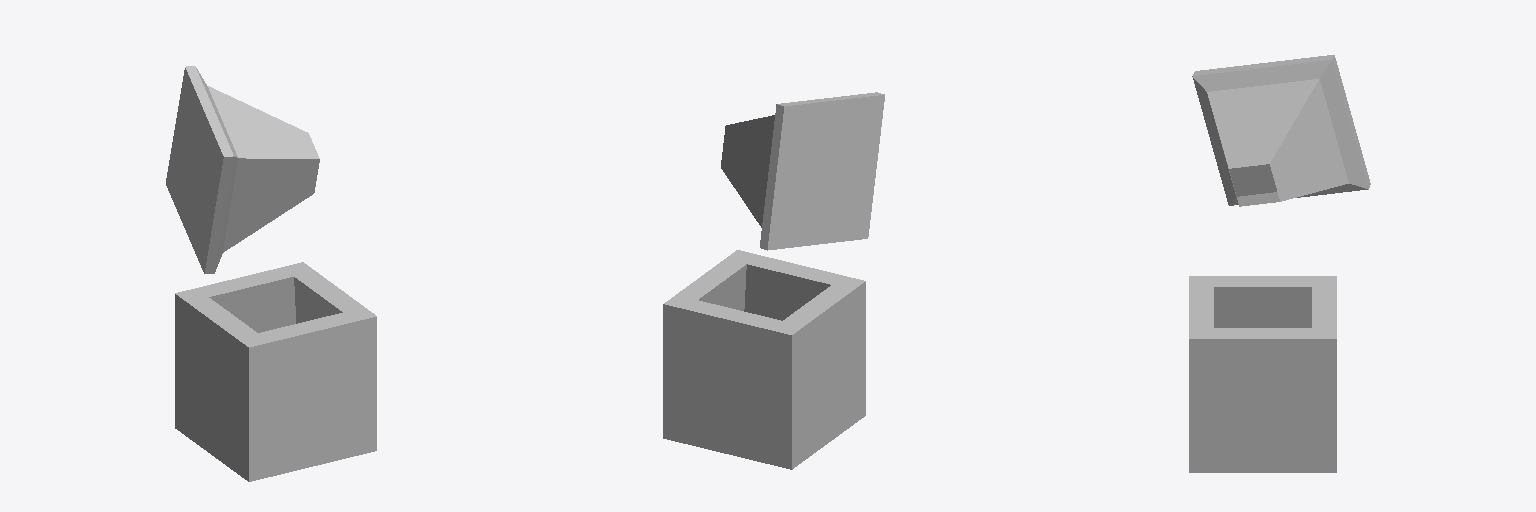
File: AnimatedBox_000104.obj
3 views of the same model, side by side, from view 1: azimuth 30°, elevation 25°; view 2: azimuth 150°, elevation 25°; view 3: azimuth 270°, elevation 25° (orthographic).
Parts seen in each view (by area): view 1: Cube, Cube.001; view 2: Cube, Cube.001; view 3: Cube, Cube.001.
Boxes of the visible parts, x1=… form: Cube: x1=175, y1=262, x2=376, y2=481; Cube.001: x1=166, y1=66, x2=319, y2=273; Cube: x1=663, y1=250, x2=865, y2=469; Cube.001: x1=721, y1=92, x2=884, y2=250; Cube: x1=1189, y1=276, x2=1336, y2=472; Cube.001: x1=1192, y1=55, x2=1370, y2=206.
Bounding box in the file's own units: 2.36 × 5.35 × 2.45.